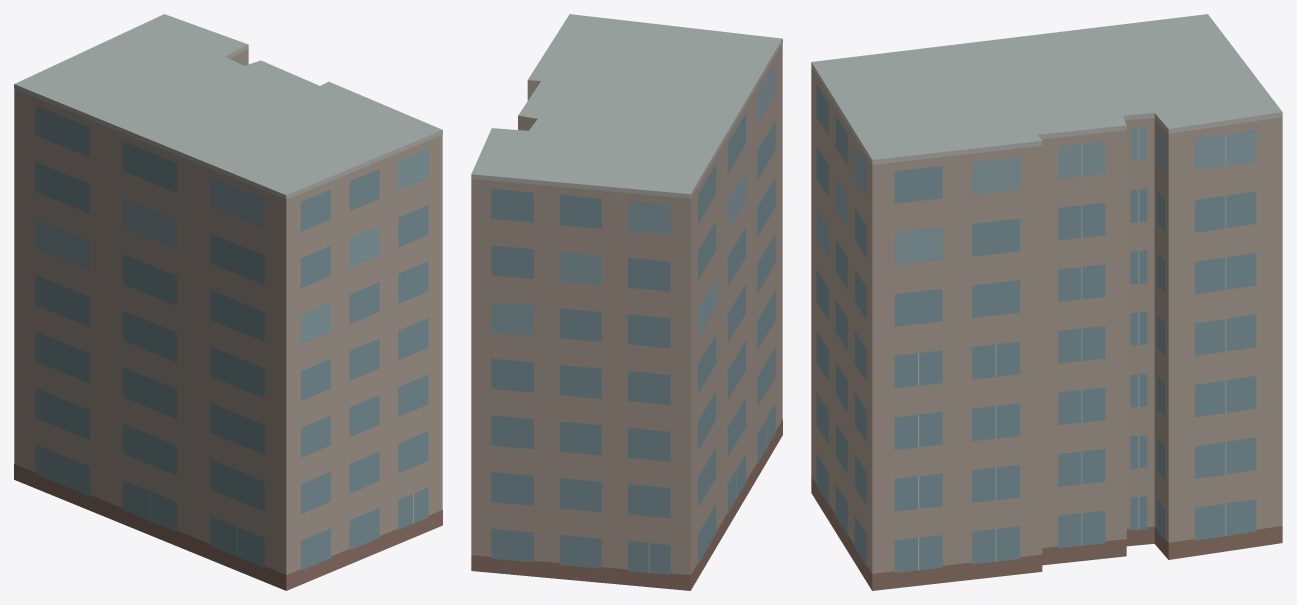
File: survey-upis-32584719.glb
3 renders of one model, left to right at view 1: azimuth 30°, elevation 25°; view 2: azimuth 150°, elevation 25°; view 3: azimuth 270°, elevation 25°, orthographic. The views are drawn at different scales.
Visible parts, largest first — view 1: survey-upis-32584719.tmp; view 2: survey-upis-32584719.tmp; view 3: survey-upis-32584719.tmp.
Boxes of the visible parts, x1,y1,x2,y2 form: survey-upis-32584719.tmp: [14, 14, 442, 590]; survey-upis-32584719.tmp: [471, 14, 782, 590]; survey-upis-32584719.tmp: [811, 14, 1282, 590].
Size of the model in its own units: 15.52 by 21.35 by 21.17.
